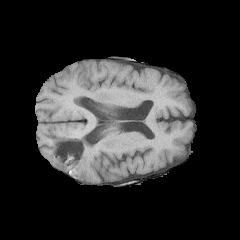glioma: (53, 136, 96, 178)
